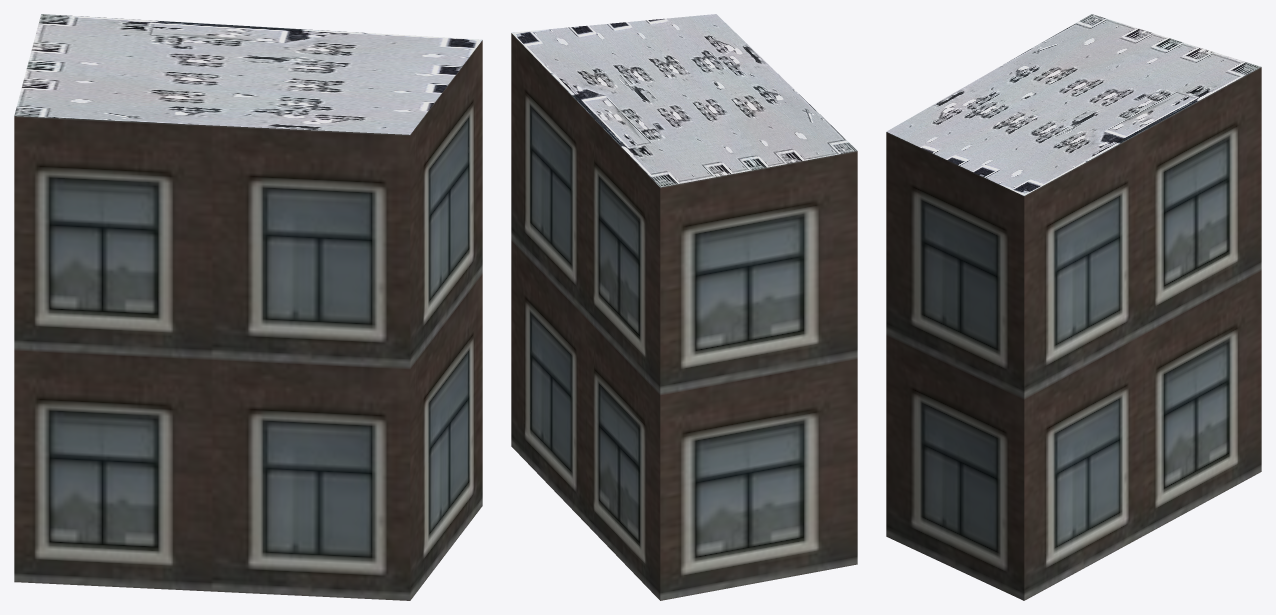
The model's file is ResTex__1323.fbx.
The picture shows the model from 3 angles, left to right: view 1: azimuth 30°, elevation 25°; view 2: azimuth 150°, elevation 25°; view 3: azimuth 270°, elevation 25°; orthographic projection. The views are drawn at different scales.
Visible parts, largest first — view 1: CityEngineMaterial_16_m, CityEngineMaterial_15_m; view 2: CityEngineMaterial_16_m, CityEngineMaterial_15_m; view 3: CityEngineMaterial_16_m, CityEngineMaterial_15_m.
Boxes of the visible parts, box(x1,y1,x2,y2) form: CityEngineMaterial_16_m: box(14, 40, 482, 600); CityEngineMaterial_15_m: box(14, 14, 482, 134); CityEngineMaterial_16_m: box(511, 33, 857, 600); CityEngineMaterial_15_m: box(511, 14, 857, 187); CityEngineMaterial_16_m: box(886, 67, 1261, 600); CityEngineMaterial_15_m: box(886, 14, 1261, 195).
Size of the model in its own units: 5.79 by 6 by 5.04.
Materials: 2 (2 with a texture image).
